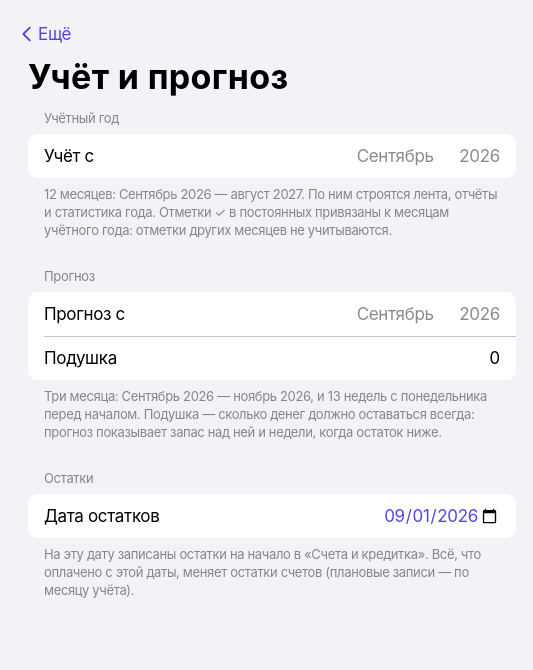
TabContent › shows a pushed page with a back button titled like the page below («Назад: Ещё» for screen readers)
Expected: the heading "Учёт и прогноз" is shown, [28,56,288,97]
Click the button with aria-label "Назад: Ещё". click: click(48, 34)
box: [16,12,79,56]
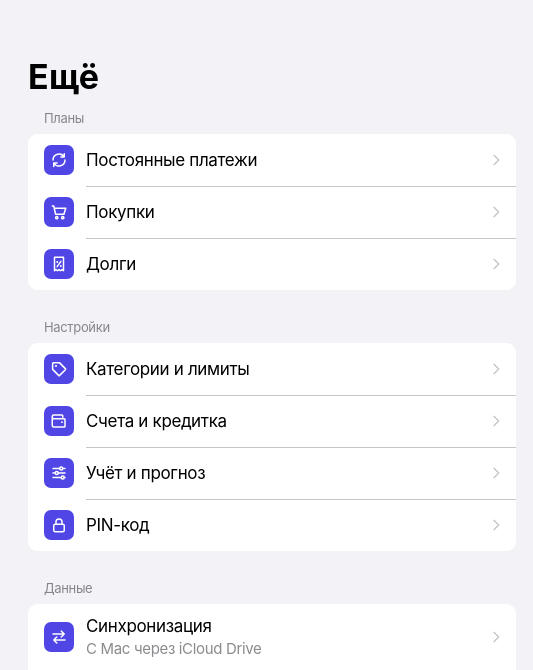
Expected: the heading "Ещё" is shown, [28,56,99,97]
